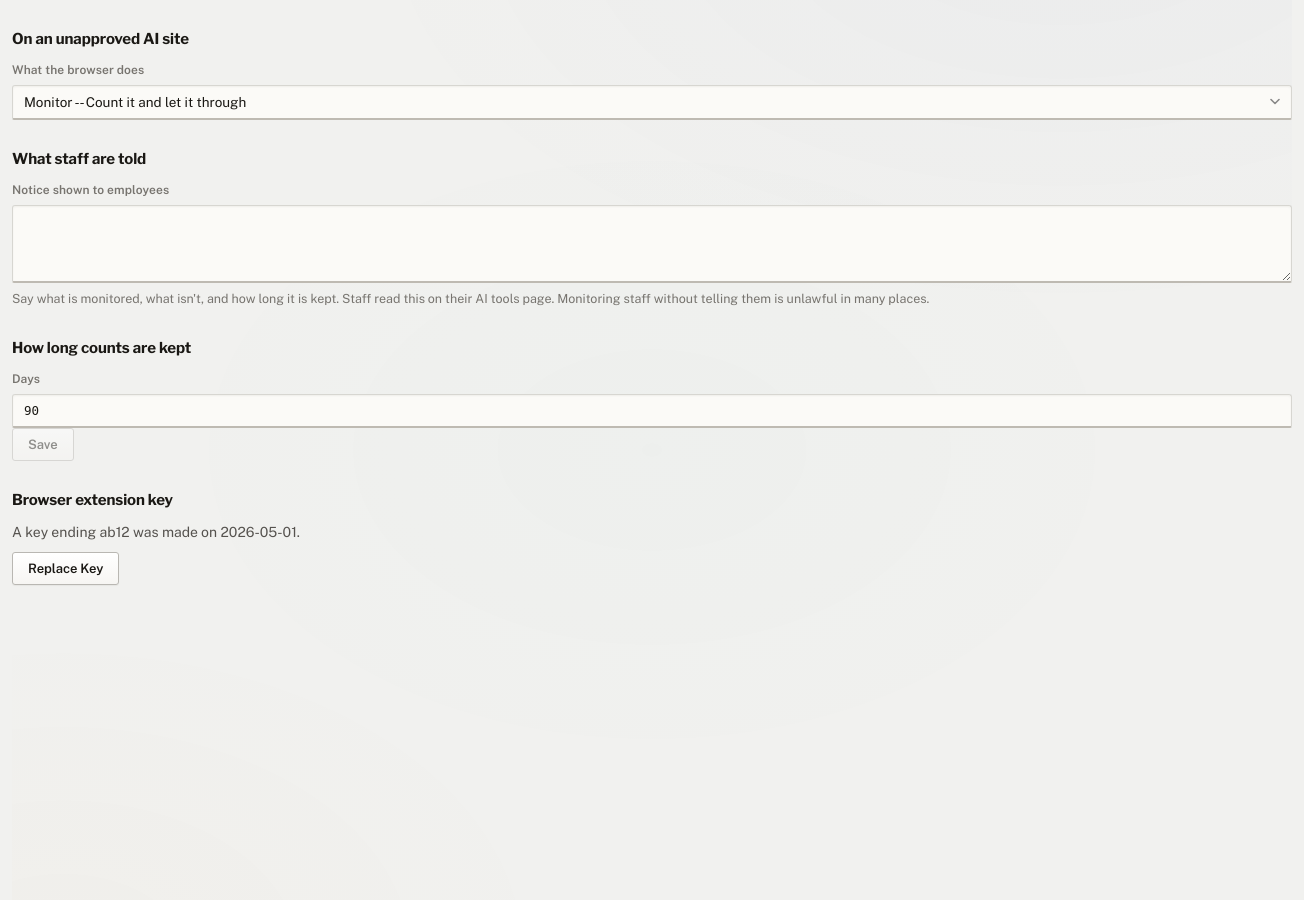
Test: AIUseSettingsPanel › asks before replacing a key, because browsers using the old one stop reporting
The image size is (1304, 900).
Expected: the text "A key ending ab12 was made on 2026-05-01." is shown, [12, 524, 300, 540]
Click the button "Replace Key": (66, 568) [12, 552, 119, 584]
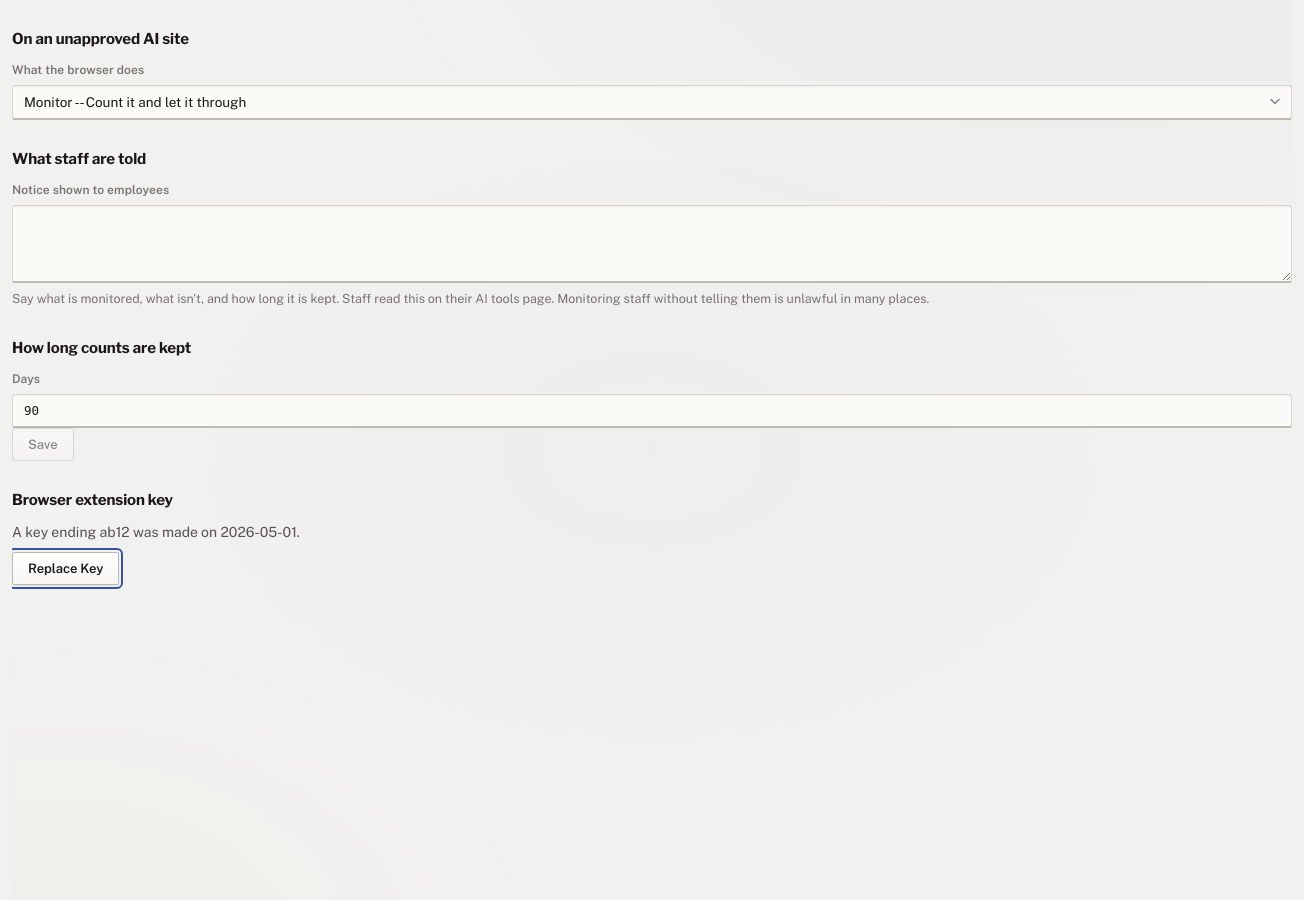
Click the button "Replace Key": (66, 568) [12, 552, 119, 584]
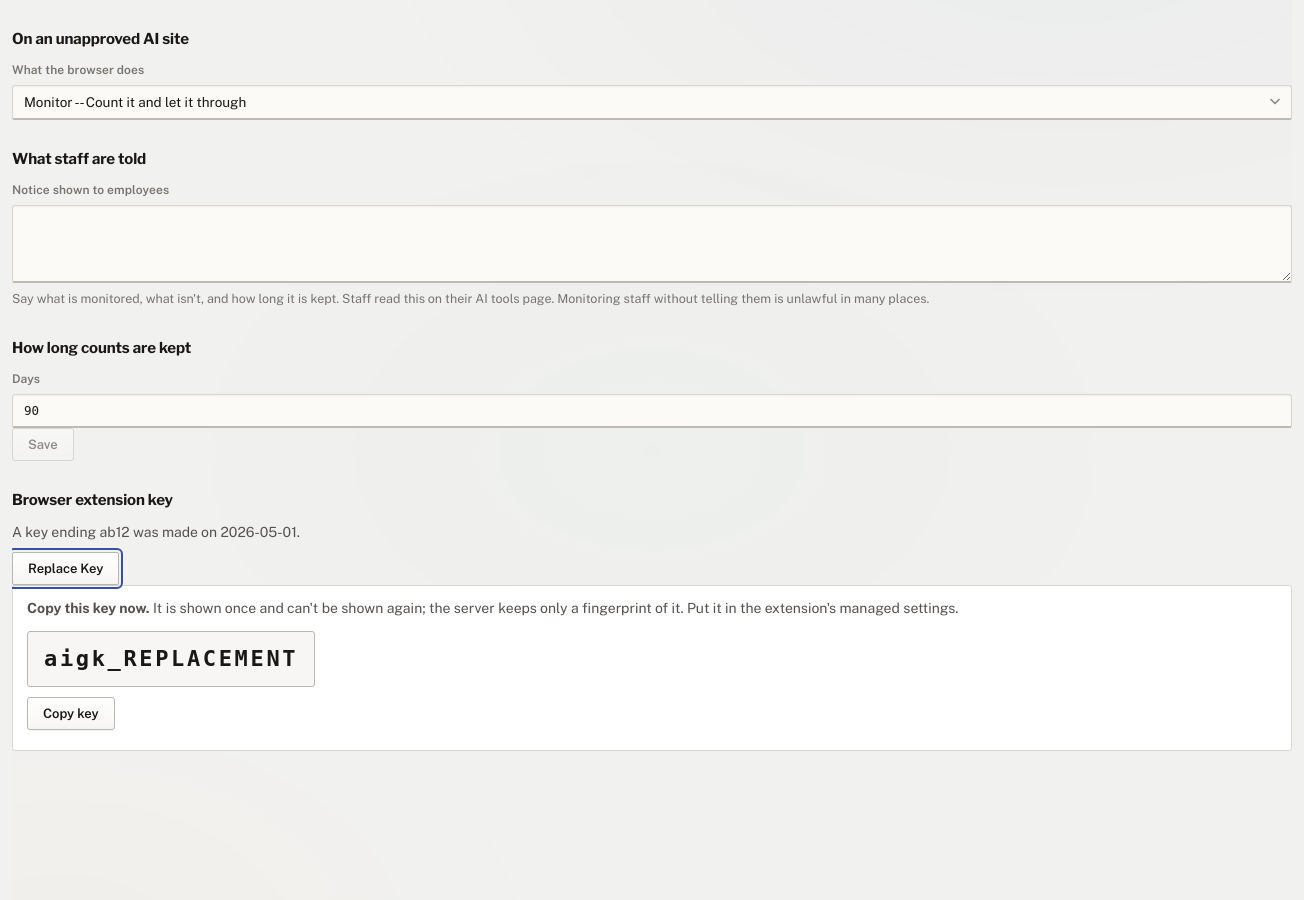
Expected: the text "aigk_REPLACEMENT" is shown, [27, 631, 315, 687]
